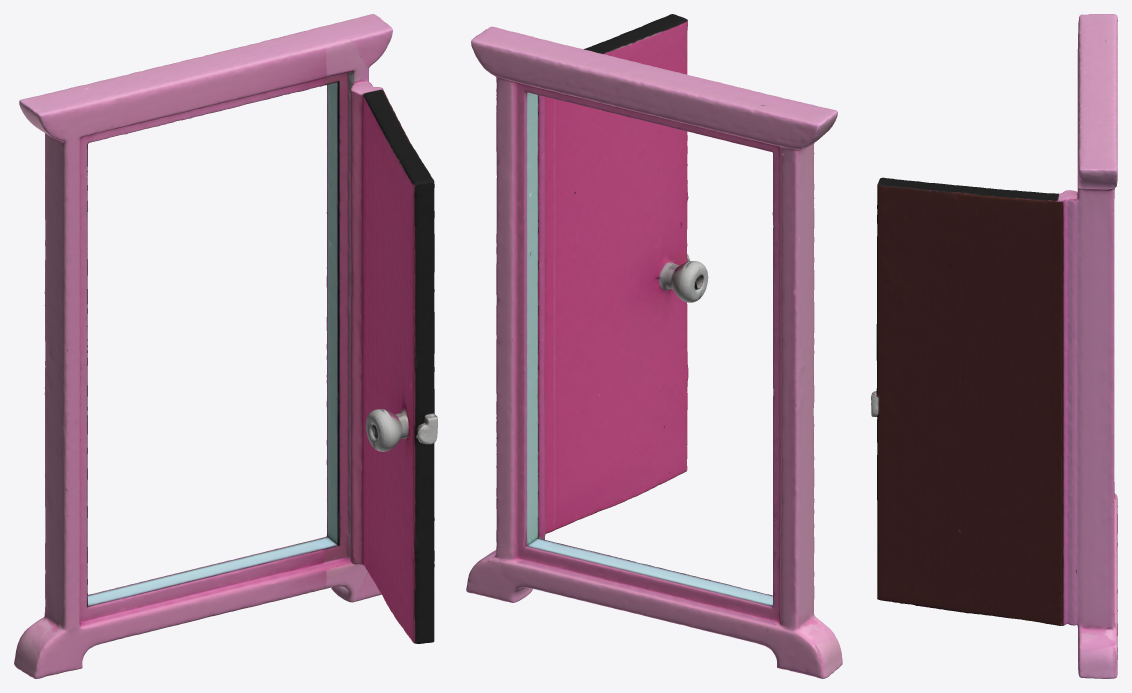
Rendered from dora.glb.
The picture shows the model from 3 angles, left to right: view 1: azimuth 30°, elevation 25°; view 2: azimuth 150°, elevation 25°; view 3: azimuth 270°, elevation 25°; orthographic projection. The views are drawn at different scales.
Parts seen in each view (by area): view 1: Mesh_0; view 2: Mesh_0; view 3: Mesh_0.
Part boxes in pixels (x1,y1,x2,y2): Mesh_0: (14, 14, 437, 678); Mesh_0: (466, 14, 842, 678); Mesh_0: (871, 14, 1117, 678).
Bounding box in the file's own units: 14.98 × 22.07 × 9.72.
Materials: 1 (1 with a texture image).
